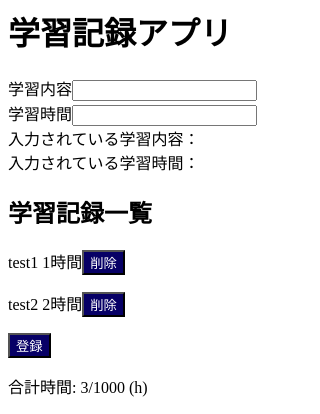
動作テスト › 記録削除
Expected: the number of elements with test id "log" is 2, [8, 250, 125, 275]; [8, 292, 125, 317]
Click the button "削除" in the row of "test2": (104, 304) [82, 292, 125, 317]
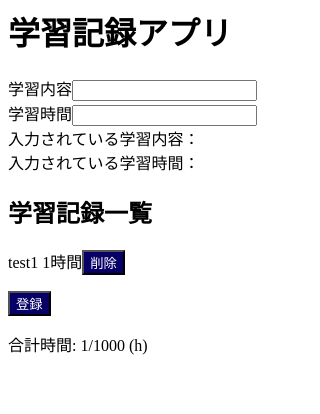
Expected: the element with test id "log" shows "test1 1時間", [8, 250, 125, 275]
Now the number of elements with test id "log" is 1, box [8, 250, 125, 275]
